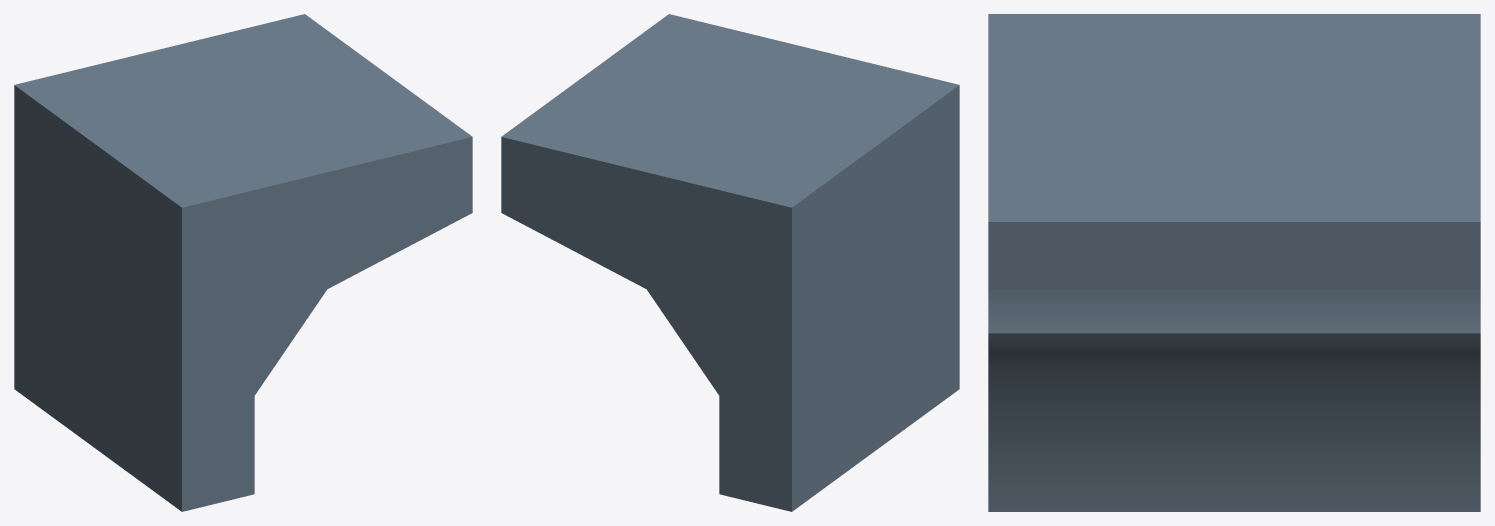
File: 1ITR_Bridge1_END.fbx
3 renders of one model, left to right at view 1: azimuth 30°, elevation 25°; view 2: azimuth 150°, elevation 25°; view 3: azimuth 270°, elevation 25°, orthographic. The views are drawn at different scales.
Visible parts, largest first — view 1: Bridge1_END; view 2: Bridge1_END; view 3: Bridge1_END.
Part boxes in pixels (<box>): Bridge1_END: <box>14,14,472,511</box>; Bridge1_END: <box>501,14,959,511</box>; Bridge1_END: <box>988,14,1480,511</box>.
Bounding box in the file's own units: 4 × 4 × 4.
